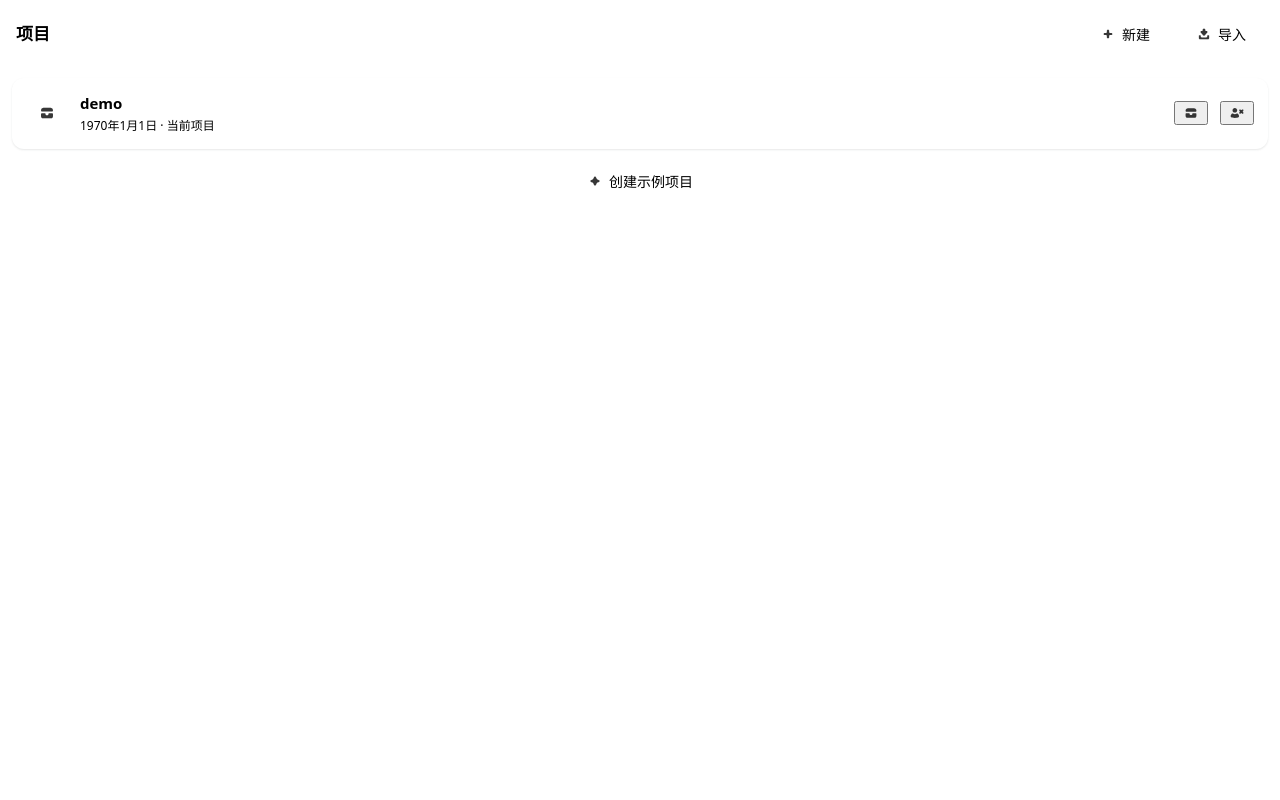
项目页：打包 › 打包完成给出结果提示
Step 1. Click the button named "打包导出 demo" → coordinates (1191, 113), box [1174, 101, 1208, 125]
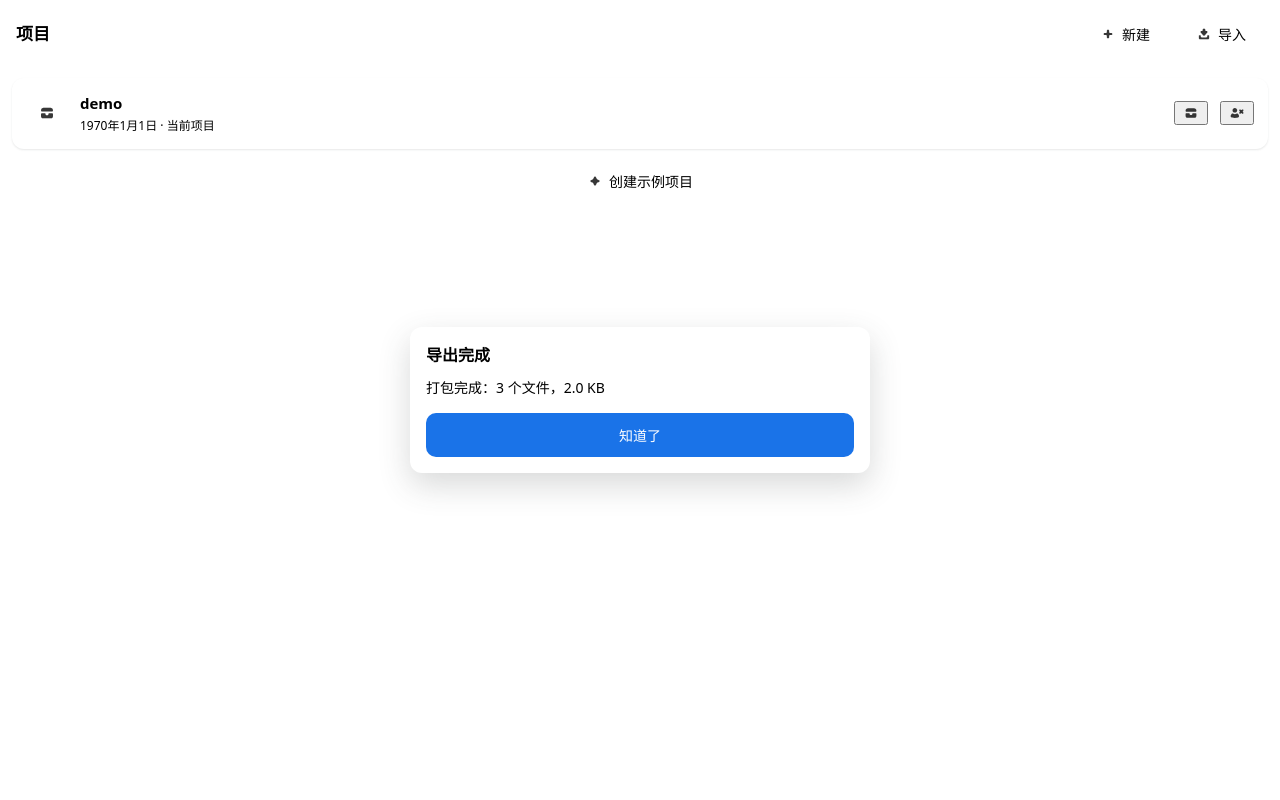
Expected: the heading "导出完成" is shown, [426, 344, 490, 366]
Expected: the text "打包完成：3 个文件，2.0 KB" is shown, [426, 378, 605, 397]
